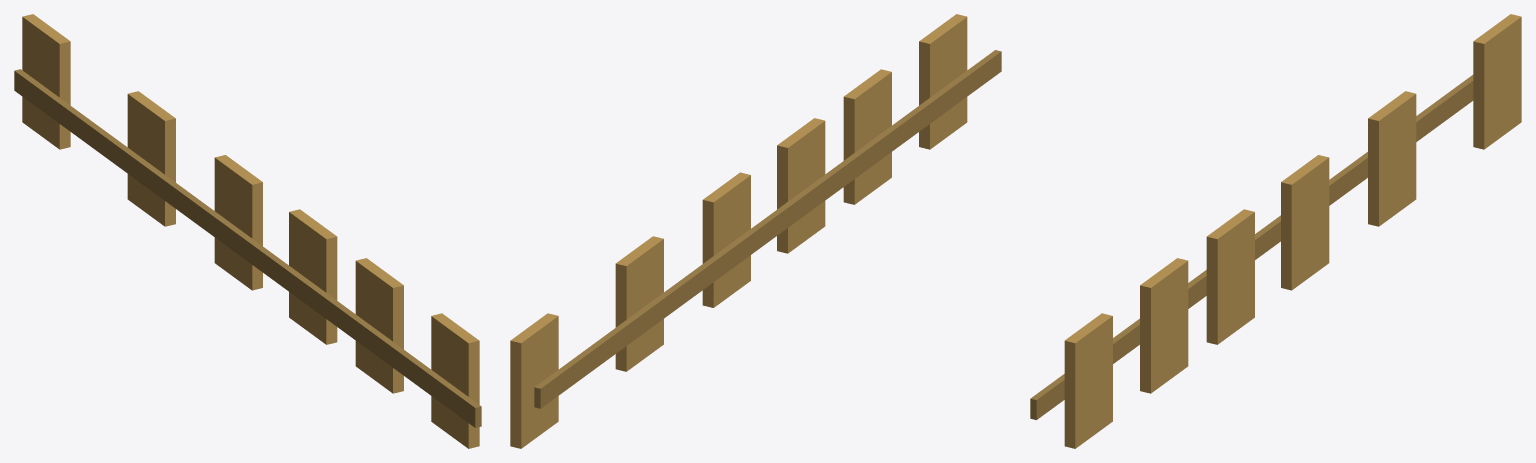
Rendered from Project Name.gltf.
The picture shows the model from 3 angles, left to right: view 1: azimuth 30°, elevation 25°; view 2: azimuth 150°, elevation 25°; view 3: azimuth 330°, elevation 25°; orthographic projection.
Visible parts, largest first — view 1: Box 1, Box 4, Box 2, Box 5, Box 6, Box 3, Box; view 2: Box 1, Box 6, Box 2, Box 5, Box, Box 4, Box 3; view 3: Box 5, Box 2, Box 6, Box, Box 4, Box 3, Box 1.
Boxes of the visible parts, x1,y1,x2,y2 form: Box 1: (14, 69, 481, 427); Box 4: (431, 313, 479, 448); Box 2: (289, 209, 337, 344); Box 5: (127, 91, 175, 226); Box 6: (22, 14, 70, 149); Box 3: (214, 155, 262, 290); Box: (355, 258, 403, 393); Box 1: (534, 50, 1001, 408); Box 6: (510, 313, 558, 448); Box 2: (777, 118, 825, 253); Box 5: (615, 236, 663, 371); Box: (843, 69, 891, 204); Box 4: (919, 14, 967, 149); Box 3: (702, 172, 750, 307); Box 5: (1368, 91, 1416, 226); Box 2: (1206, 209, 1254, 344); Box 6: (1473, 14, 1521, 149); Box: (1140, 258, 1188, 393); Box 4: (1064, 313, 1112, 448); Box 3: (1281, 155, 1329, 290); Box 1: (1030, 75, 1473, 419).
Size of the model in its own units: 0.3585 by 1.47 by 11.77.
